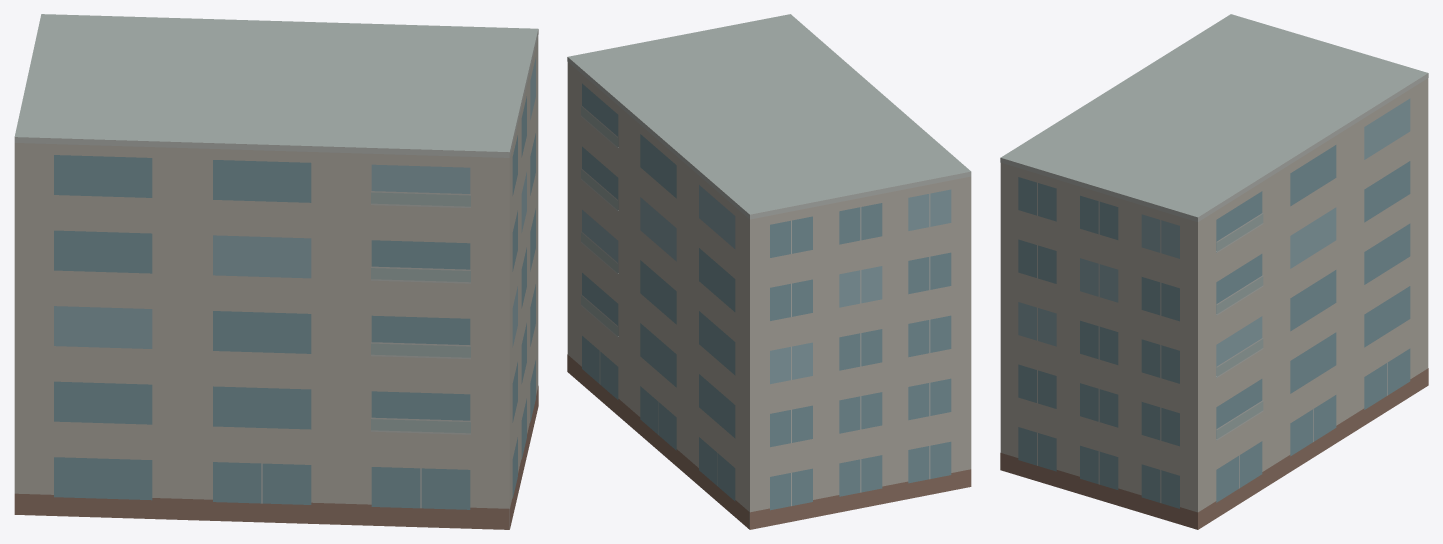
File: survey-upis-32472798.glb
3 renders of one model, left to right at view 1: azimuth 30°, elevation 25°; view 2: azimuth 150°, elevation 25°; view 3: azimuth 270°, elevation 25°, orthographic. The views are drawn at different scales.
Parts seen in each view (by area): view 1: survey-upis-32472798.tmp; view 2: survey-upis-32472798.tmp; view 3: survey-upis-32472798.tmp.
Part boxes in pixels (x1,y1,x2,y2): survey-upis-32472798.tmp: (14,14,538,529); survey-upis-32472798.tmp: (567,14,971,529); survey-upis-32472798.tmp: (1000,14,1428,529).
Size of the model in its own units: 22.07 by 15.8 by 19.62.
